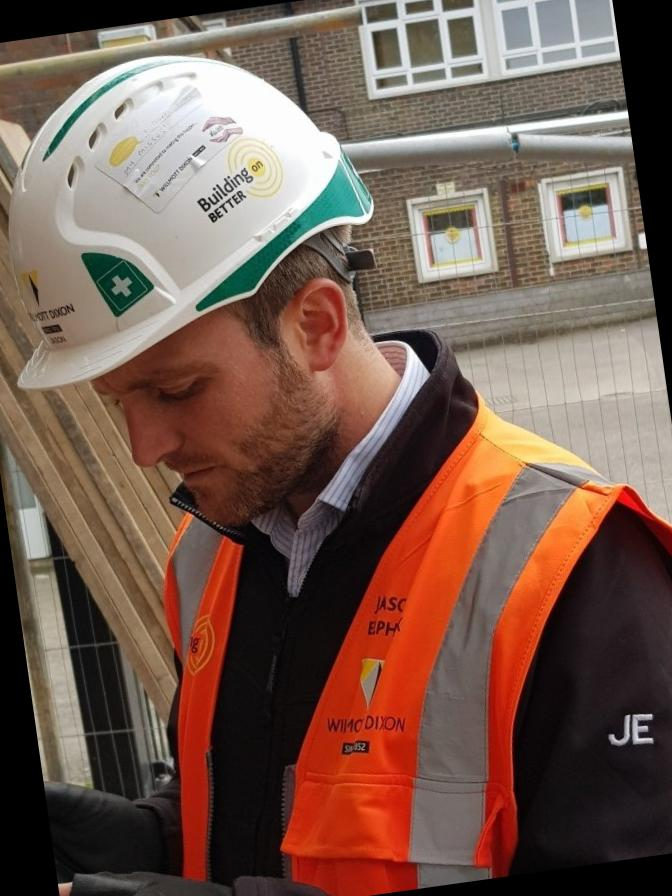helmet: (0, 25, 394, 400)
wear: (127, 463, 672, 896)
